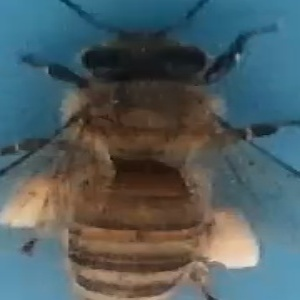bee: (8, 17, 292, 299)
